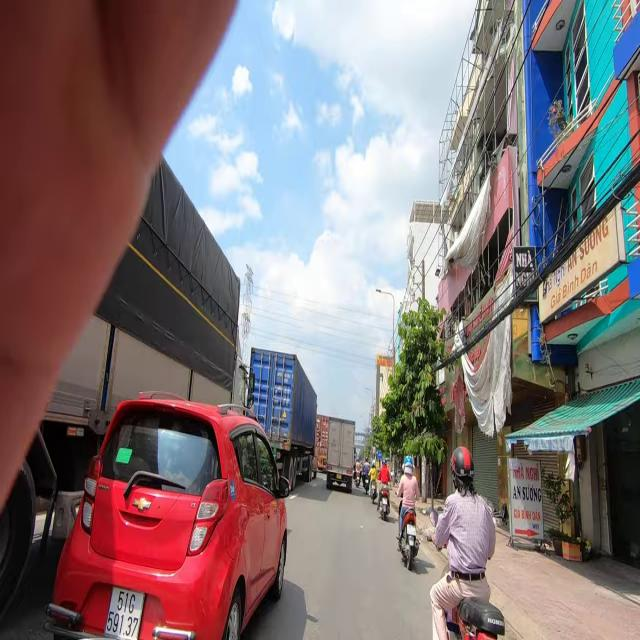bien_trang: (106, 582, 141, 638)
